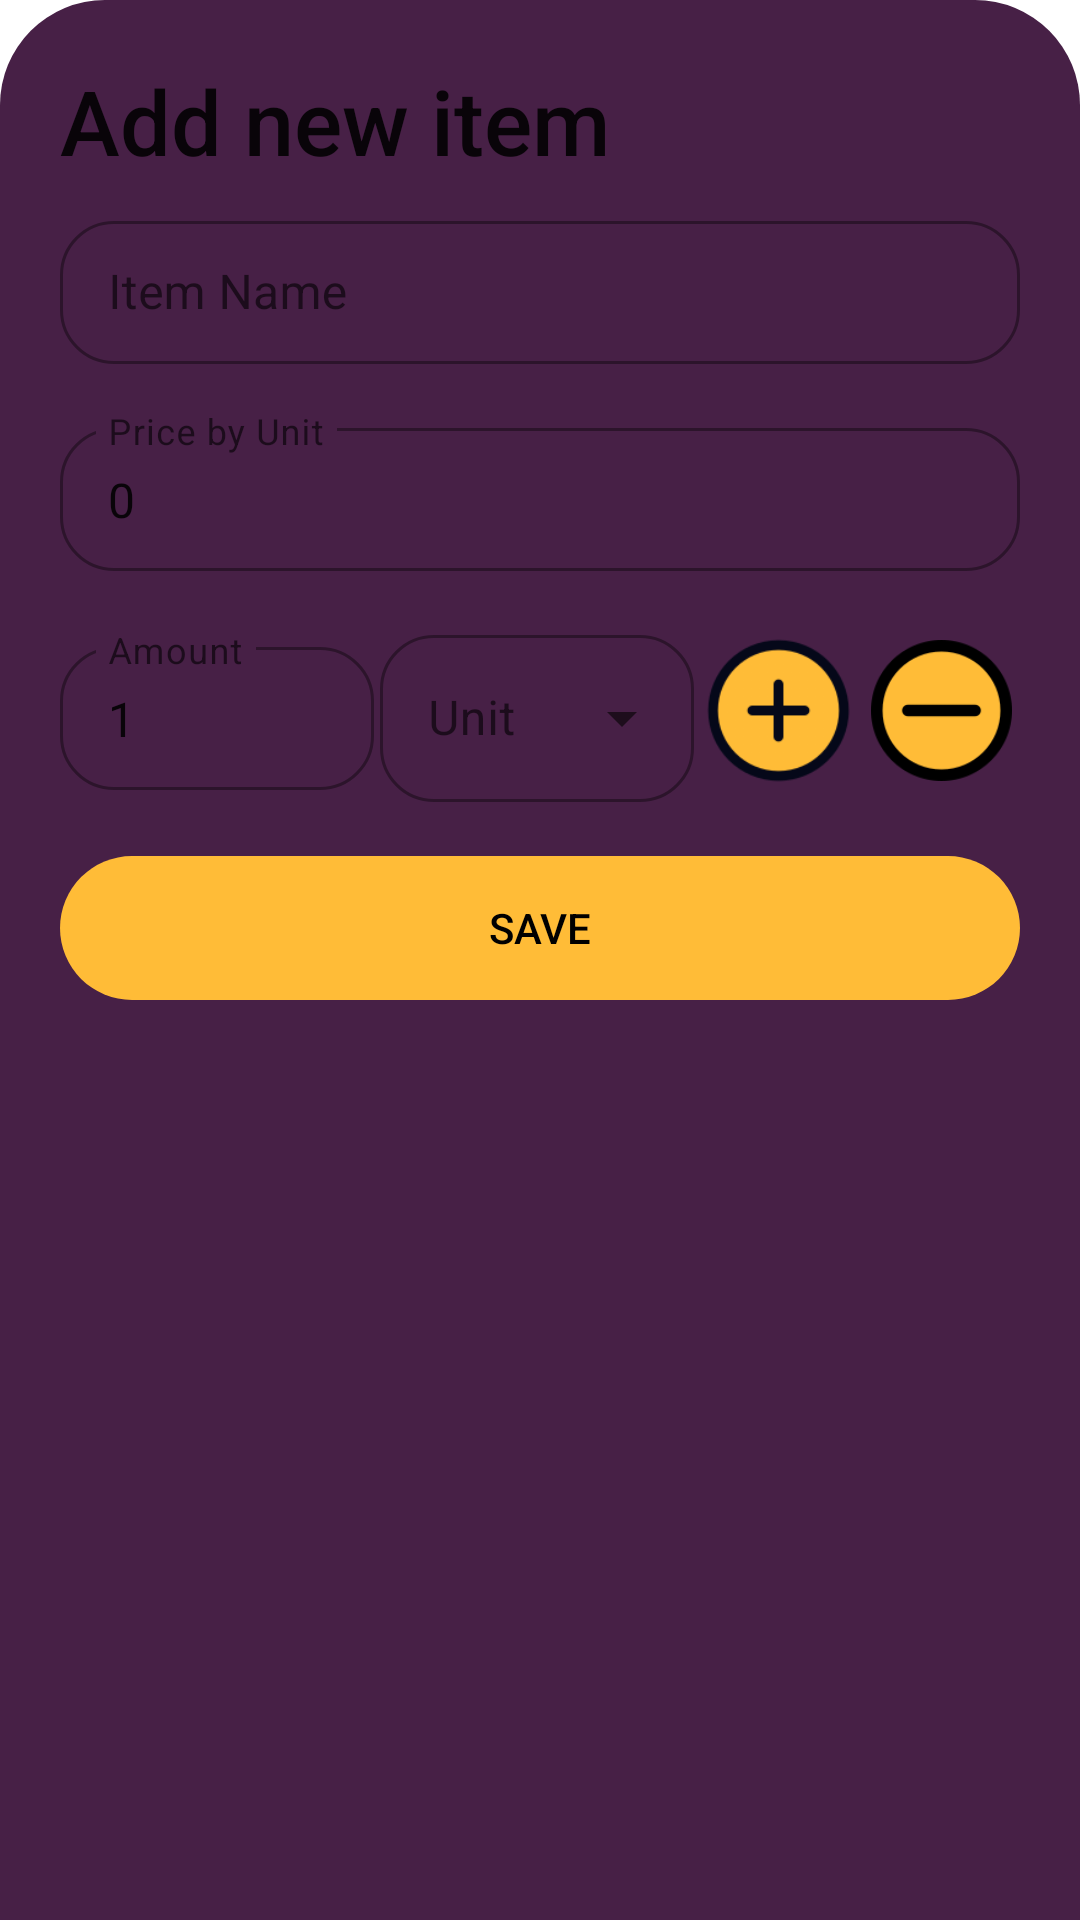

Icons on this 1080×1920 Android screen, each with the point to tap as (x,y):
add sum: (778,710)
minus rest: (941,710)
